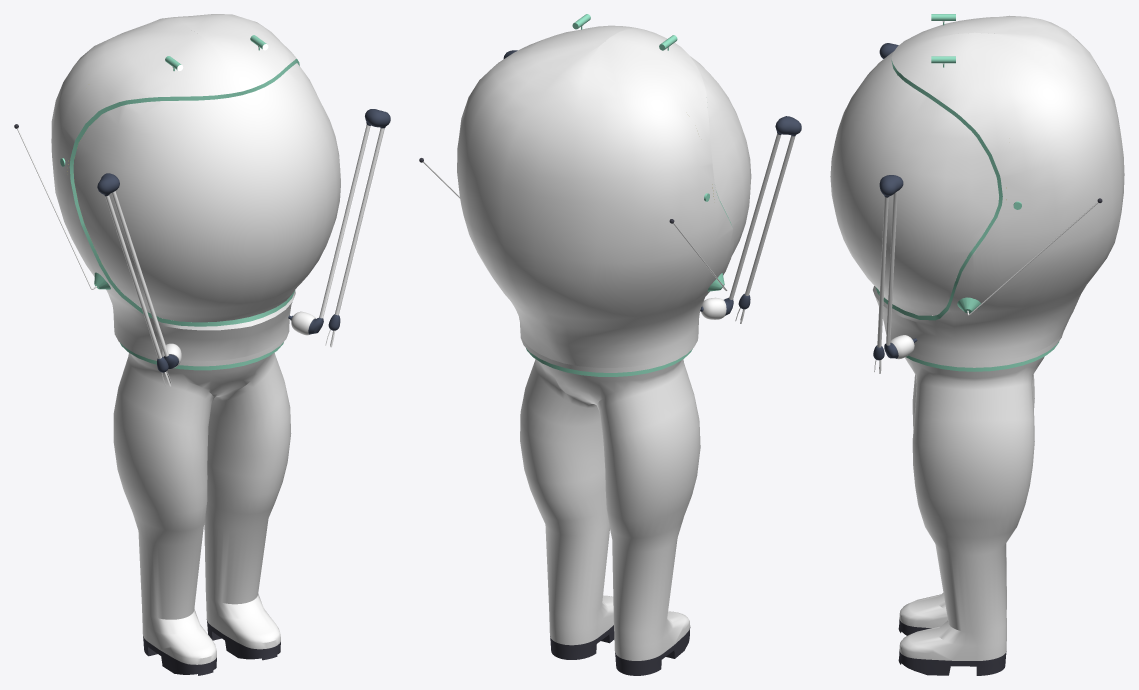
File: Spacesuit_Prop.glb
3 renders of one model, left to right at view 1: azimuth 30°, elevation 25°; view 2: azimuth 150°, elevation 25°; view 3: azimuth 270°, elevation 25°, orthographic.
Parts seen in each view (by area): view 1: Spacesuit_Prop; view 2: Spacesuit_Prop; view 3: Spacesuit_Prop.
Boxes of the visible parts, x1,y1,x2,y2 form: Spacesuit_Prop: [14, 14, 390, 675]; Spacesuit_Prop: [419, 14, 801, 675]; Spacesuit_Prop: [830, 14, 1124, 675].
Size of what is drawn, in the model's own units: 0.9704 by 1.93 by 0.8351.
